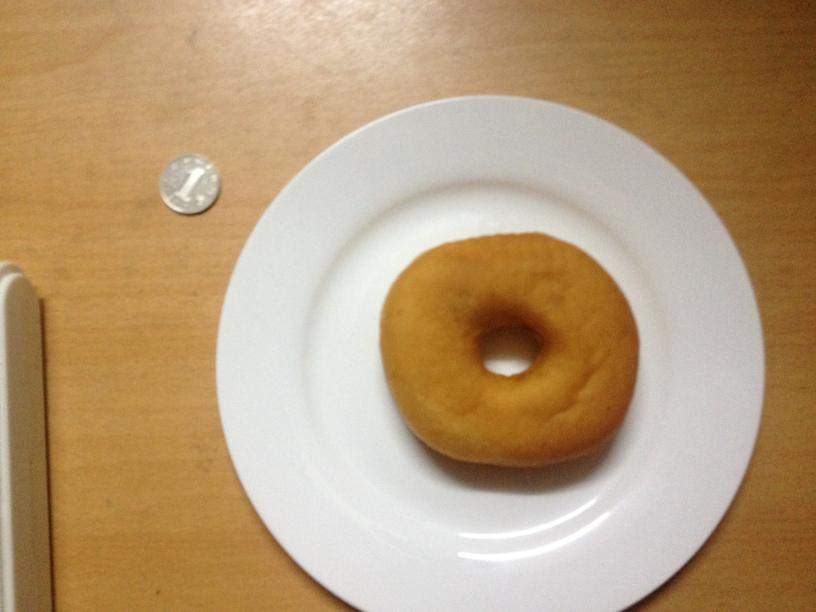coin: (157, 156, 221, 214)
doughnut: (384, 234, 639, 466)
